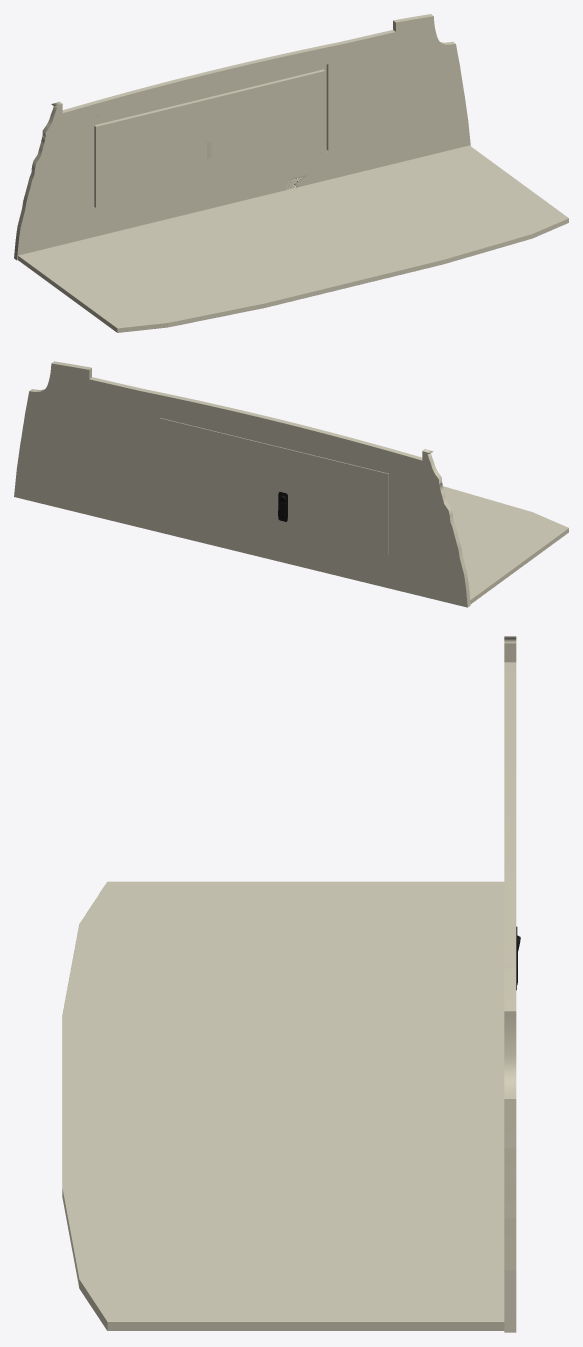
The model's file is over-the-cab-storage-two.glb.
The picture shows the model from 3 angles, top to bottom: view 1: azimuth 30°, elevation 25°; view 2: azimuth 150°, elevation 25°; view 3: azimuth 270°, elevation 25°; orthographic projection. The views are drawn at different scales.
Parts seen in each view (by area): view 1: Plane; view 2: Plane; view 3: Plane.
Boxes of the visible parts, bbox=[...] form: Plane: bbox=[14, 14, 568, 332]; Plane: bbox=[14, 361, 568, 607]; Plane: bbox=[62, 636, 520, 1332].
Size of the model in its own units: 1.54 by 0.471 by 0.672.
